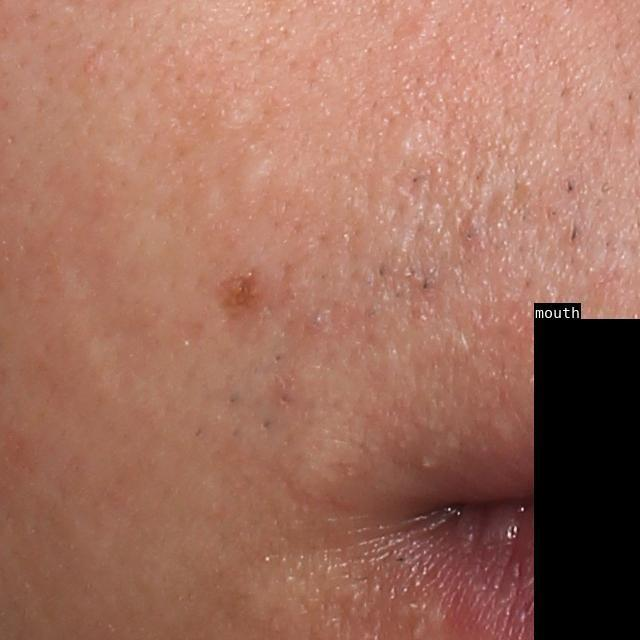comedo: (395, 133, 426, 161)
